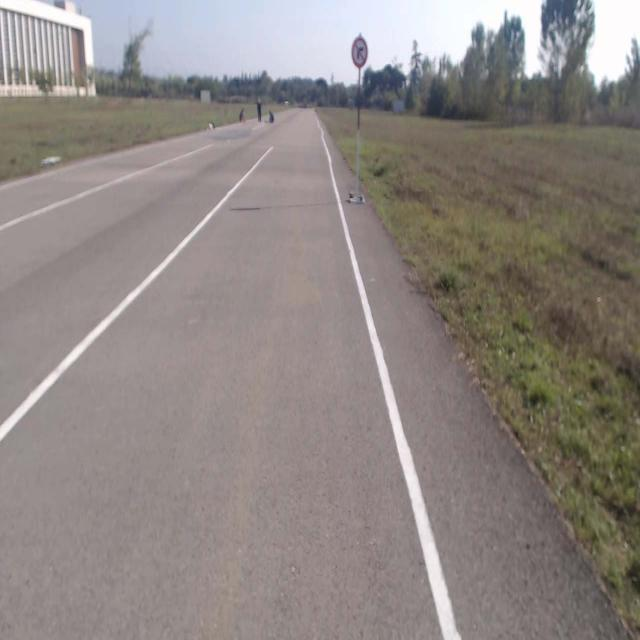sagadonulmez: (351, 36, 367, 68)
